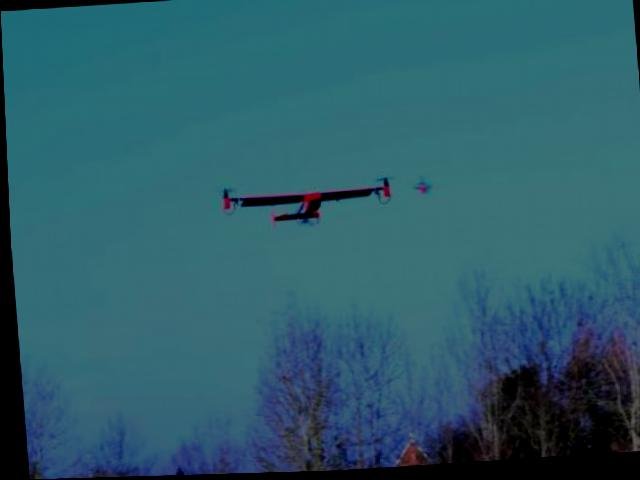uav: (212, 166, 397, 248)
